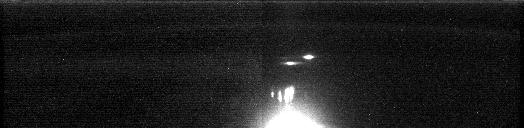positive: (269, 81, 298, 108)
